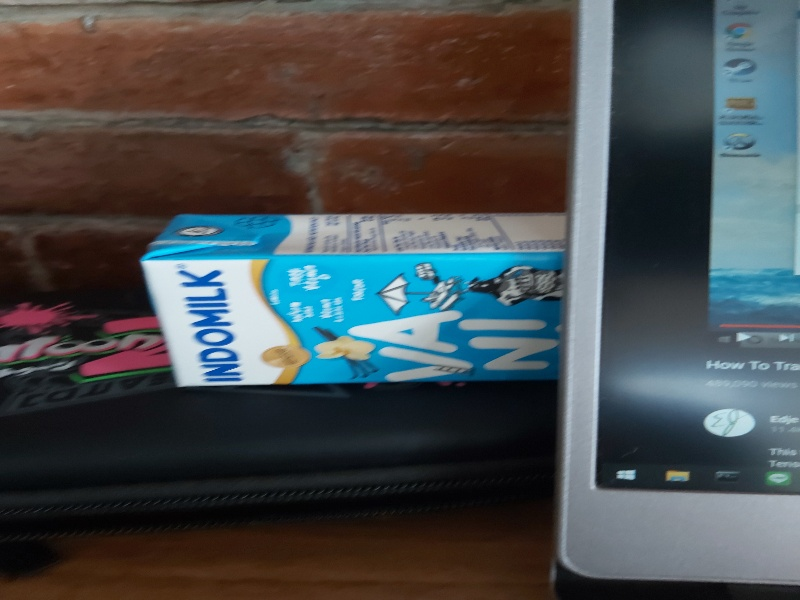vanilla: (138, 213, 570, 388)
